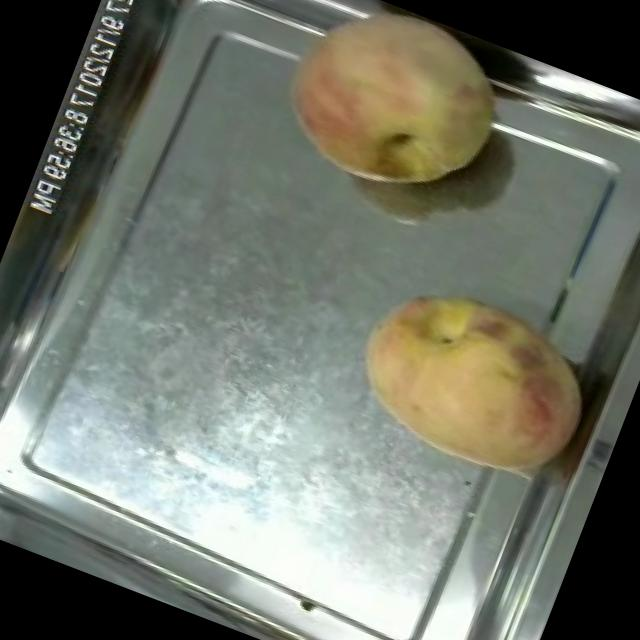Fruit: (326, 257, 619, 509), (249, 0, 527, 230)
